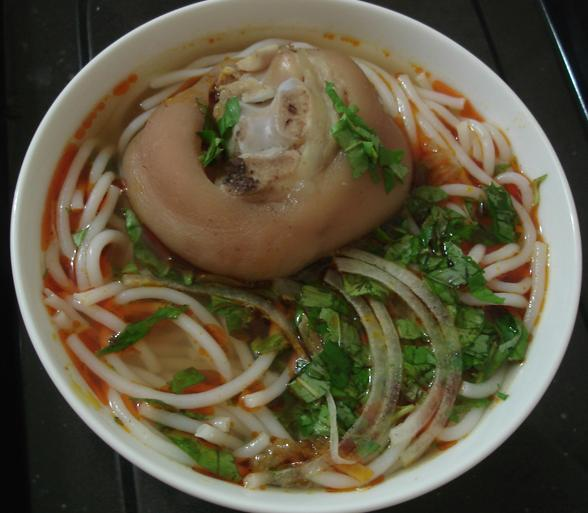onion: (298, 292, 456, 426)
pork: (117, 43, 416, 278)
